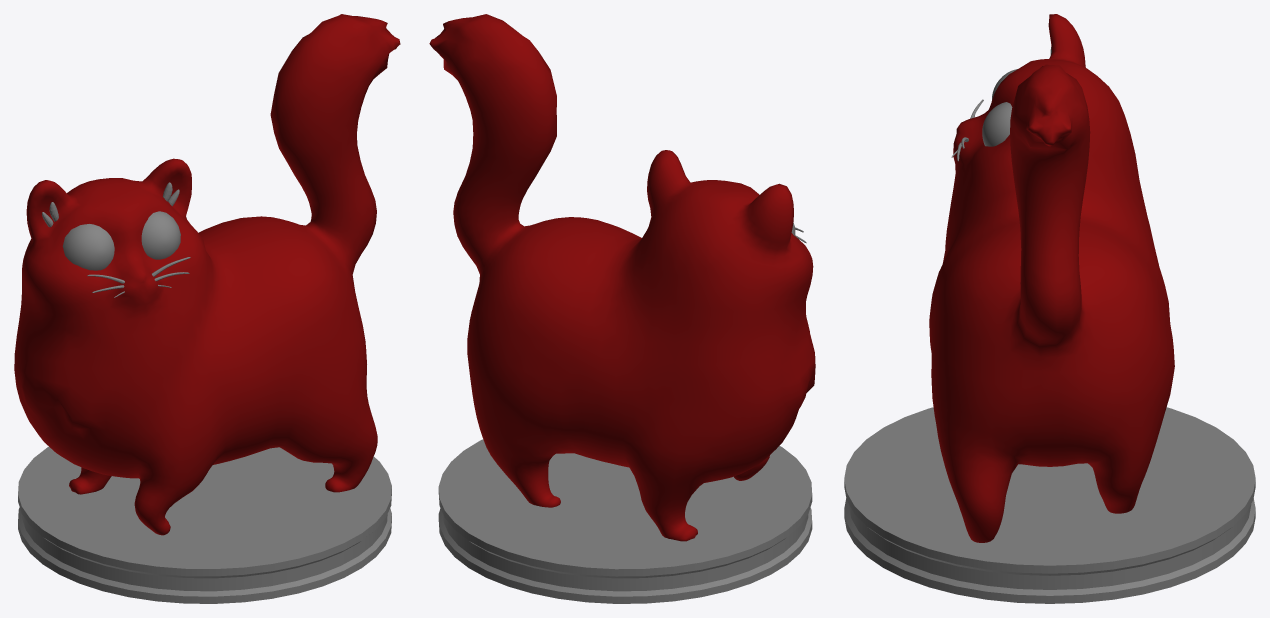
The model's file is cat.obj.
3 renders of one model, left to right at view 1: azimuth 30°, elevation 25°; view 2: azimuth 150°, elevation 25°; view 3: azimuth 270°, elevation 25°, orthographic. The views are drawn at different scales.
Visible parts, largest first — view 1: Cat_LP, Plateau, Whiskers2_Eyes, Whiskers2_Whiskers; view 2: Cat_LP, Plateau; view 3: Cat_LP, Plateau, Whiskers2_Eyes.
Part boxes in pixels (left/top/right/bottom): Cat_LP: left=14, top=14, right=400, bottom=535; Plateau: left=18, top=446, right=391, bottom=603; Whiskers2_Eyes: left=62, top=211, right=180, bottom=270; Whiskers2_Whiskers: left=42, top=182, right=190, bottom=297; Cat_LP: left=429, top=14, right=815, bottom=541; Plateau: left=438, top=439, right=812, bottom=603; Cat_LP: left=929, top=14, right=1174, bottom=542; Plateau: left=844, top=407, right=1255, bottom=603; Whiskers2_Eyes: left=982, top=69, right=1017, bottom=146.
Size of the model in its own units: 6.03 by 7.36 by 5.27.
